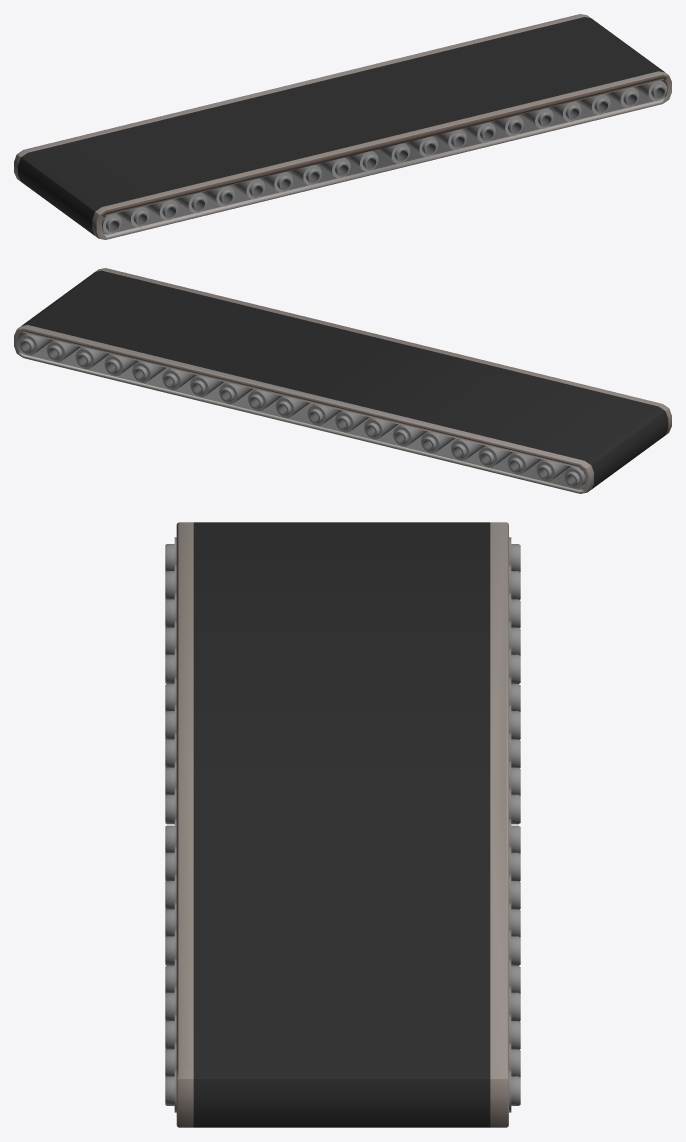
The model's file is liukuhihna_pitkä.fbx.
3 renders of one model, top to bottom at view 1: azimuth 30°, elevation 25°; view 2: azimuth 150°, elevation 25°; view 3: azimuth 270°, elevation 25°, orthographic. The views are drawn at different scales.
Parts seen in each view (by area): view 1: liukuhihna_pitkä; view 2: liukuhihna_pitkä; view 3: liukuhihna_pitkä.
Part boxes in pixels (box(x1,y1,x2,y2)): liukuhihna_pitkä: box(14, 14, 671, 239); liukuhihna_pitkä: box(14, 268, 671, 493); liukuhihna_pitkä: box(165, 522, 520, 1127).
Size of the model in its own units: 400 by 20.07 by 107.
2 materials, 1 textured.
